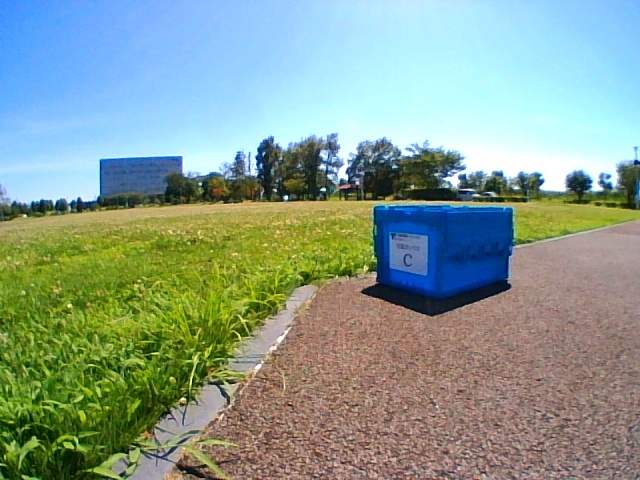blue_box: (374, 204, 513, 300)
tag_c: (392, 237, 427, 271)
